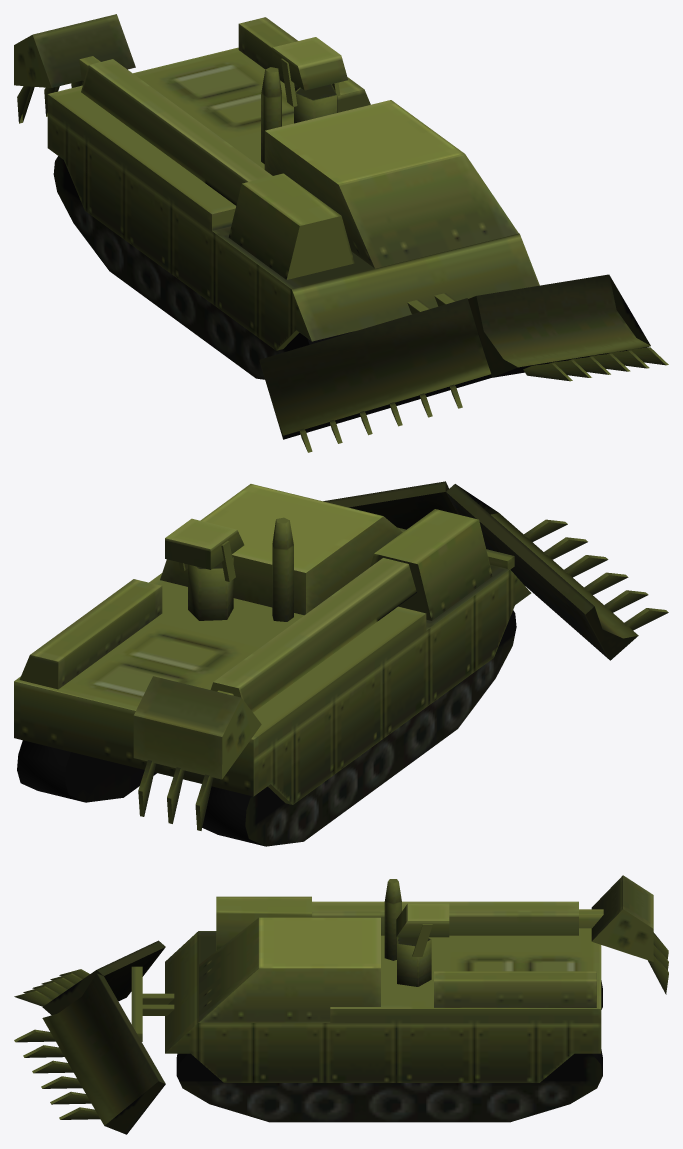
The model's file is Breacher.DAE.
3 views of the same model, one above another, from view 1: azimuth 30°, elevation 25°; view 2: azimuth 150°, elevation 25°; view 3: azimuth 270°, elevation 25° (orthographic). The views are drawn at different scales.
Parts seen in each view (by area): view 1: _1561_Breacher; view 2: _1561_Breacher; view 3: _1561_Breacher.
Part boxes in pixels (x1=…): _1561_Breacher: x1=14, y1=14, x2=668, y2=452; _1561_Breacher: x1=14, y1=481, x2=668, y2=846; _1561_Breacher: x1=14, y1=875, x2=668, y2=1134.
Bounding box in the file's own units: 192 × 115 × 358.
1 material, 1 textured.
